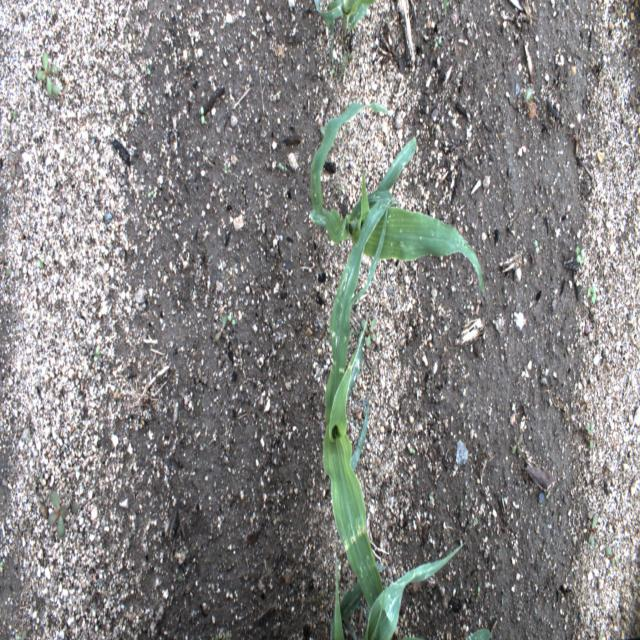crop: (308, 101, 485, 296), (322, 198, 396, 631), (362, 543, 465, 639), (313, 0, 375, 78), (329, 560, 387, 639), (464, 627, 494, 639)
weed: (36, 49, 61, 98), (46, 488, 70, 539), (214, 312, 229, 343), (361, 317, 376, 348), (8, 148, 23, 178), (585, 513, 598, 547), (605, 545, 619, 568), (584, 422, 594, 451), (511, 435, 523, 456), (610, 1, 622, 20), (587, 286, 597, 306), (576, 243, 584, 265), (611, 74, 619, 90), (200, 106, 206, 127), (476, 584, 481, 600), (408, 447, 417, 455), (545, 489, 550, 501)
